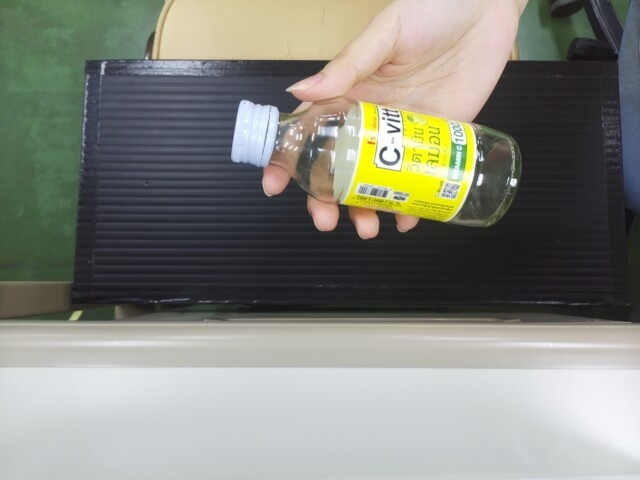glass_bottle: (226, 93, 514, 224)
